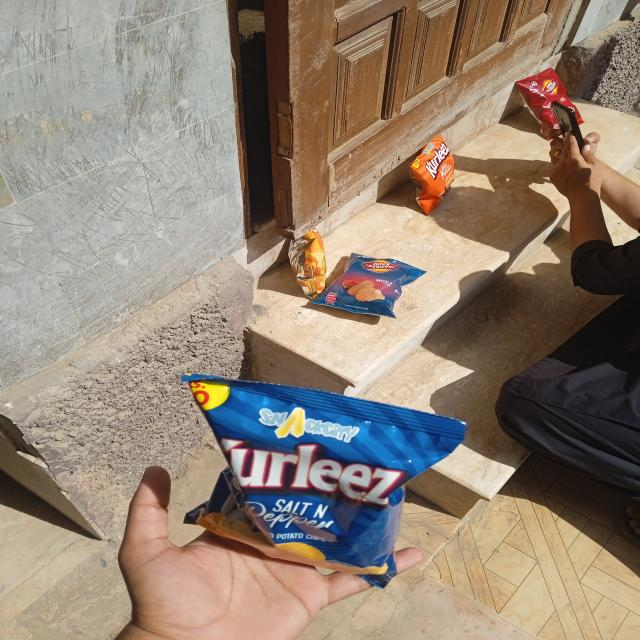Plastic: (177, 365, 464, 586), (324, 251, 426, 319), (401, 134, 458, 213)
